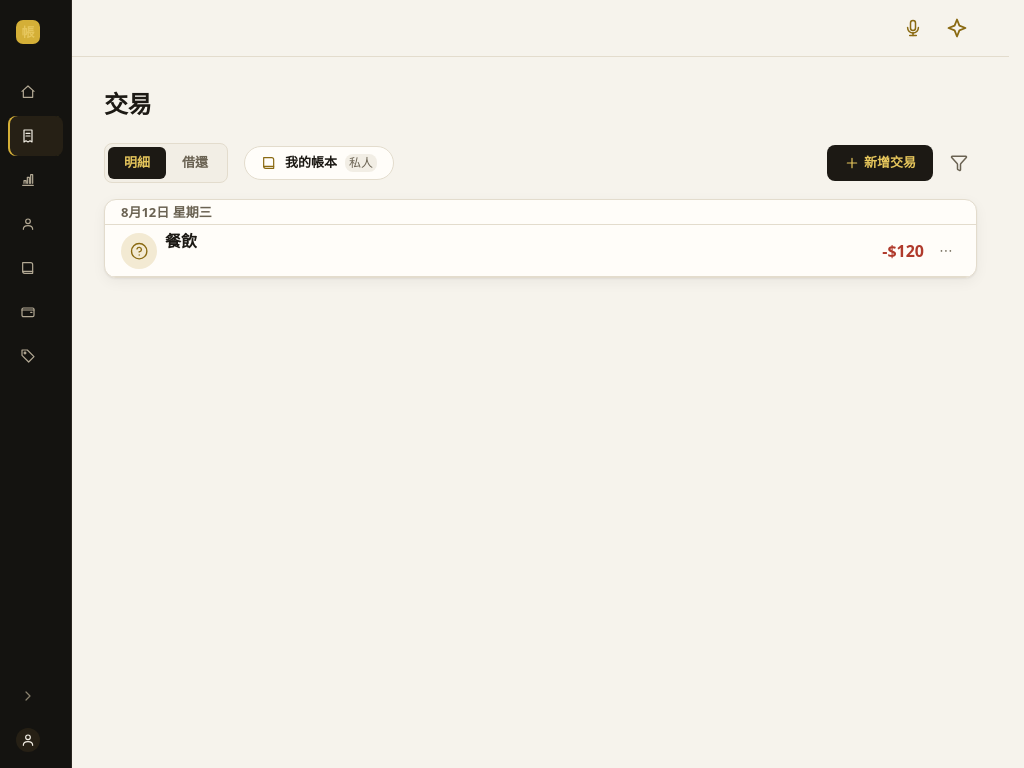
Scenario: Writing a transaction refreshes account balances › asks for the balances again after a transaction is deleted
This screenshot has width=1024, height=768.
Click the button "餐飲".
click(181, 241)  # box x1=165 y1=225 x2=804 y2=276
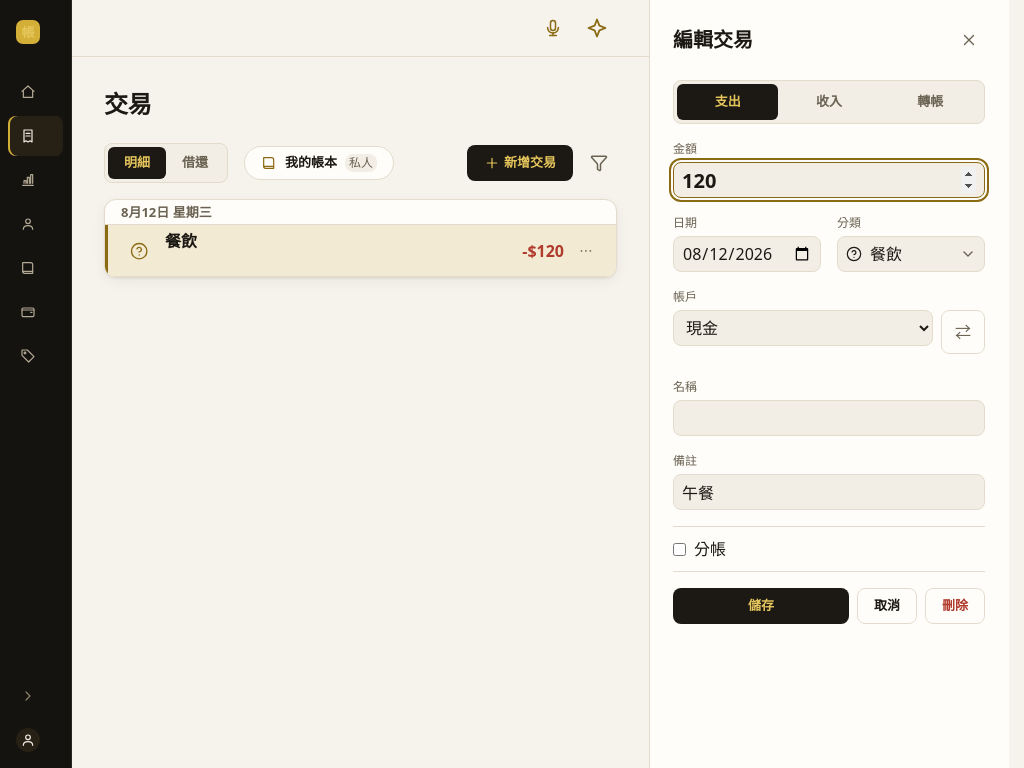
Click the button "刪除".
click(955, 606)  # box x1=925 y1=588 x2=985 y2=624
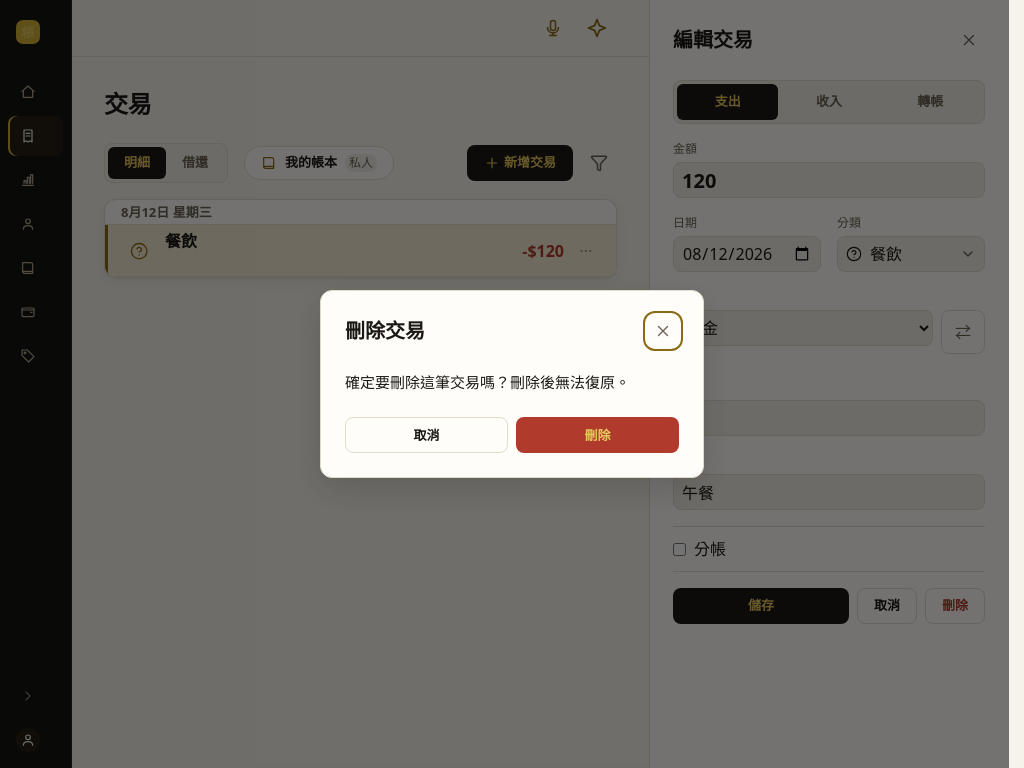
Click the button "刪除".
click(598, 435)  # box x1=516 y1=417 x2=679 y2=453
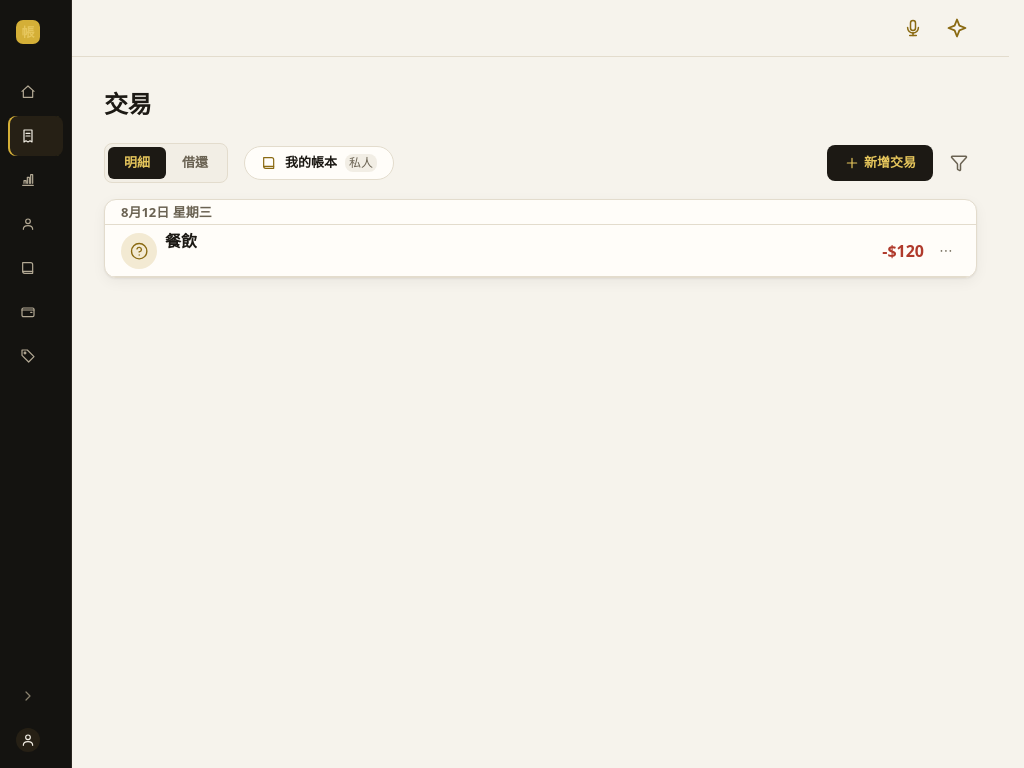
# 側欄的站名是回首頁的連結，而導覽列這一步還沒有「交易」那一項。
Click the link named "記帳系統".
click(28, 32)  # box x1=16 y1=20 x2=40 y2=44
(page scrolled)
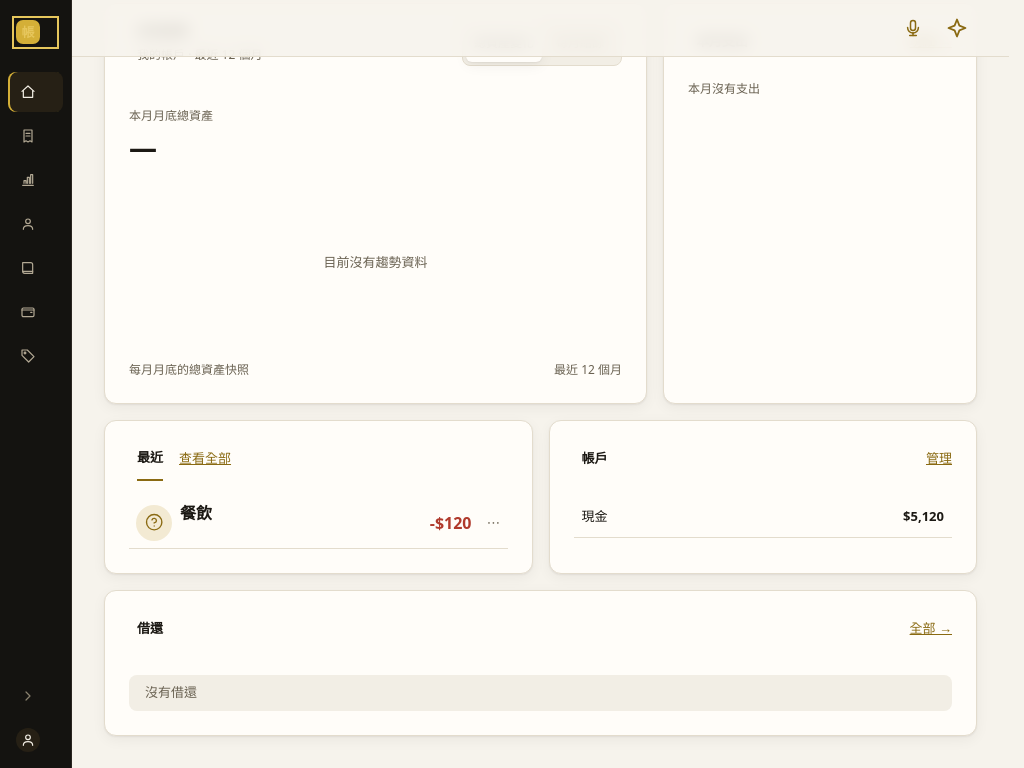
Expected: the text "$5,120" is shown, x1=903 y1=507 x2=944 y2=527
